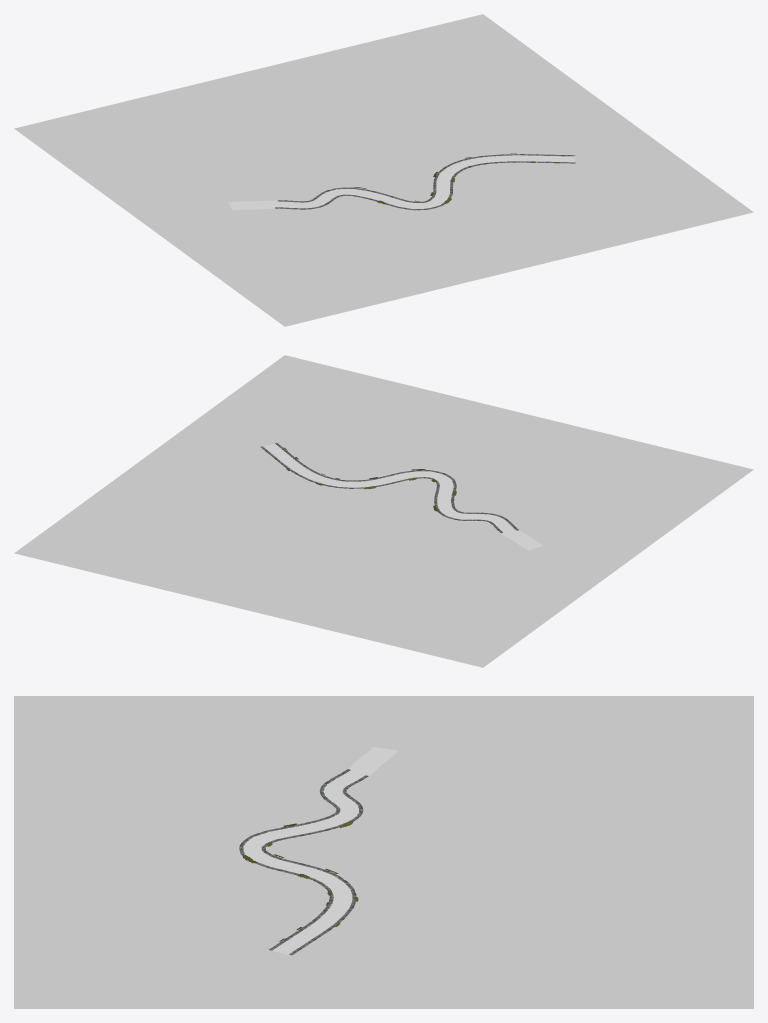
The model's file is Level 8.fbx.
3 views of the same model, one above another, from view 1: azimuth 30°, elevation 25°; view 2: azimuth 150°, elevation 25°; view 3: azimuth 270°, elevation 25° (orthographic). The views are drawn at different scales.
Parts seen in each view (by area): view 1: Ground Test 3.006, Dirt_Ground 1.016, Stone 1.033, Stone 1.032; view 2: Ground Test 3.006, Dirt_Ground 1.016, Stone 1.032, Stone 1.033; view 3: Ground Test 3.006, Dirt_Ground 1.016, Stone 1.033, Stone 1.032.
Boxes of the visible parts, box(x1,y1,x2,y2) form: Ground Test 3.006: box(14, 14, 753, 326); Dirt_Ground 1.016: box(228, 155, 575, 210); Stone 1.033: box(277, 154, 575, 202); Stone 1.032: box(275, 161, 575, 210); Ground Test 3.006: box(14, 355, 753, 667); Dirt_Ground 1.016: box(261, 444, 543, 550); Stone 1.032: box(275, 442, 518, 530); Stone 1.033: box(260, 446, 502, 533); Ground Test 3.006: box(14, 696, 753, 1008); Dirt_Ground 1.016: box(243, 747, 397, 955); Stone 1.033: box(261, 775, 368, 955); Stone 1.032: box(239, 769, 350, 950).
Bounding box in the file's own units: 15000 × 76.36 × 15000.
